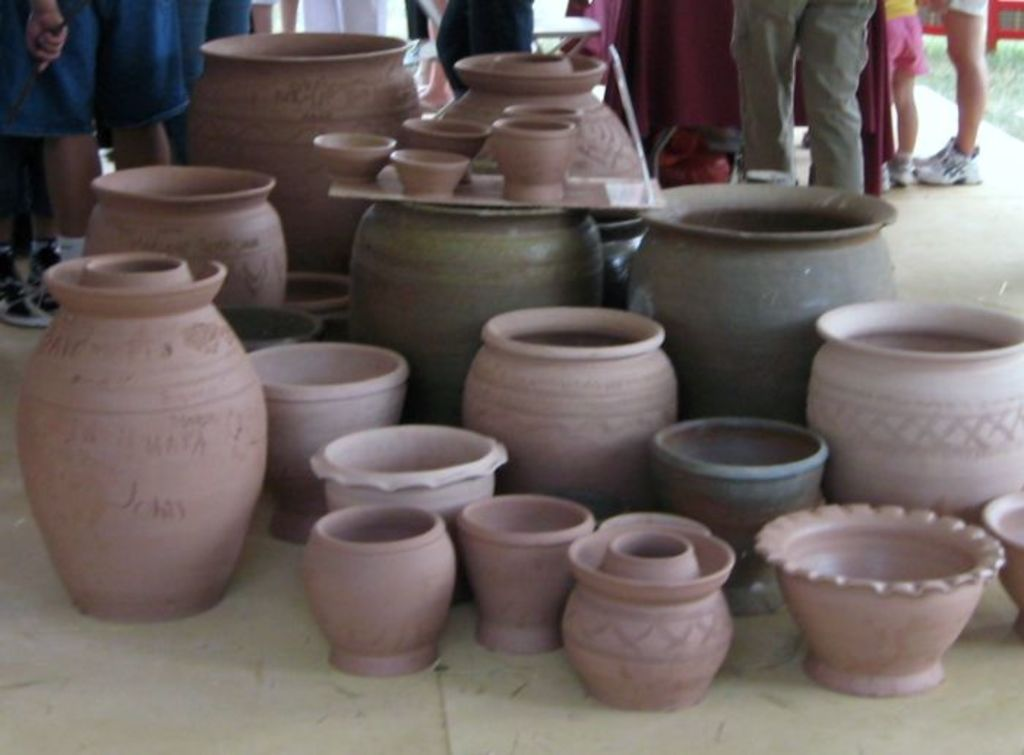person: (82, 0, 260, 170)
